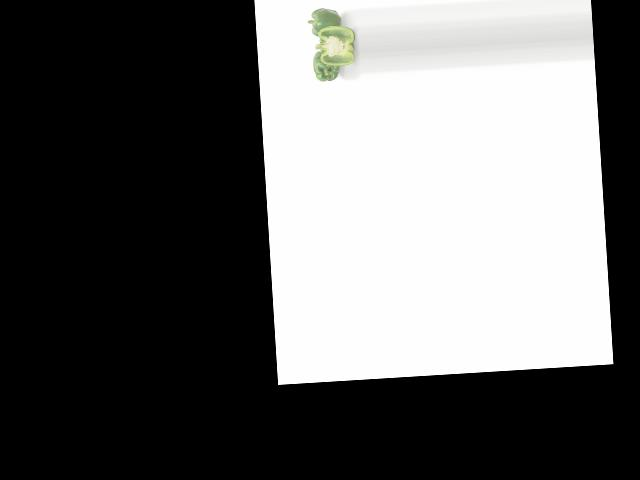bell_pepper: (309, 47, 344, 85)
